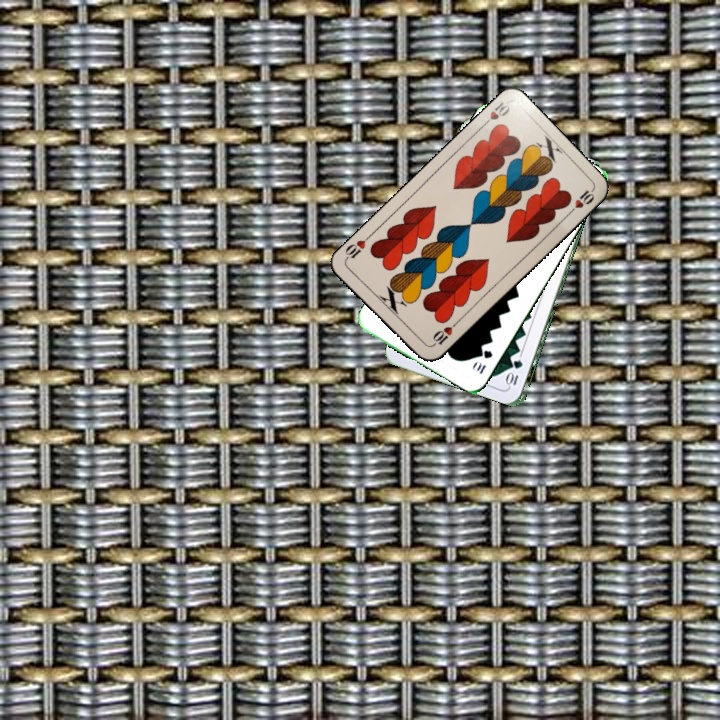G10: (471, 346, 495, 377), (504, 356, 525, 389)
H10: (478, 98, 512, 130), (427, 318, 460, 349)
